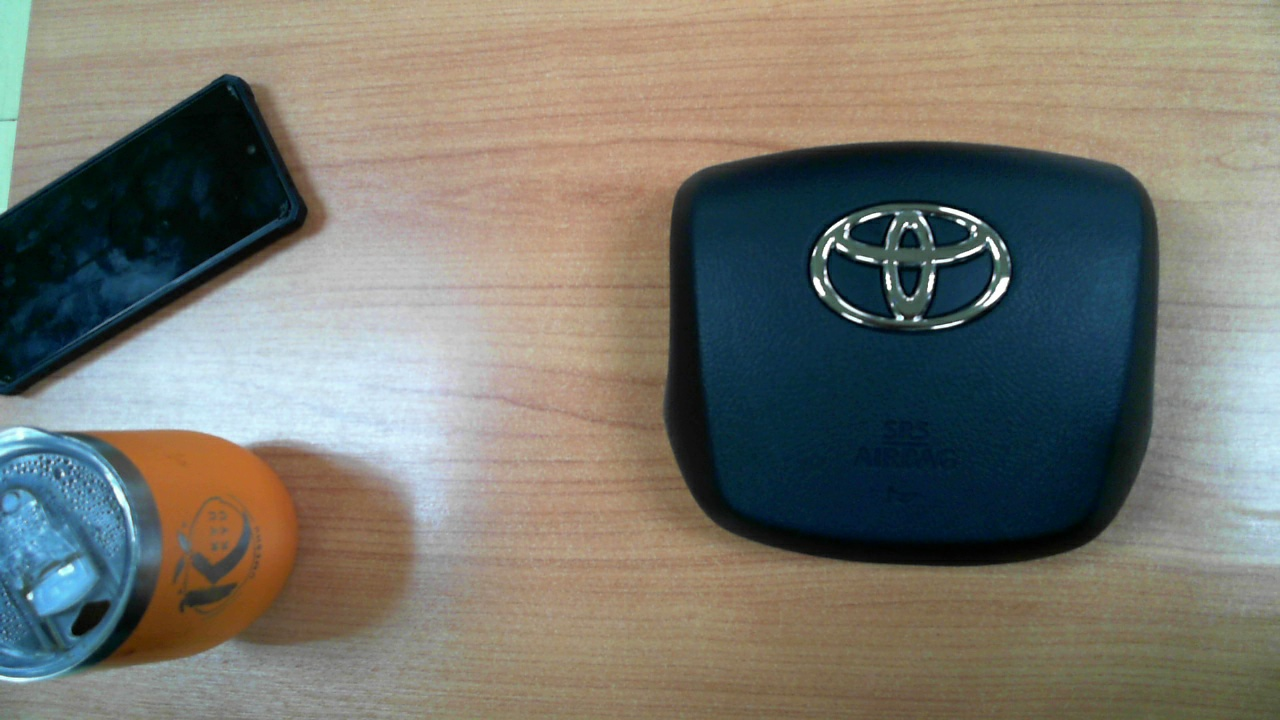Airbag: (626, 126, 1193, 593)
